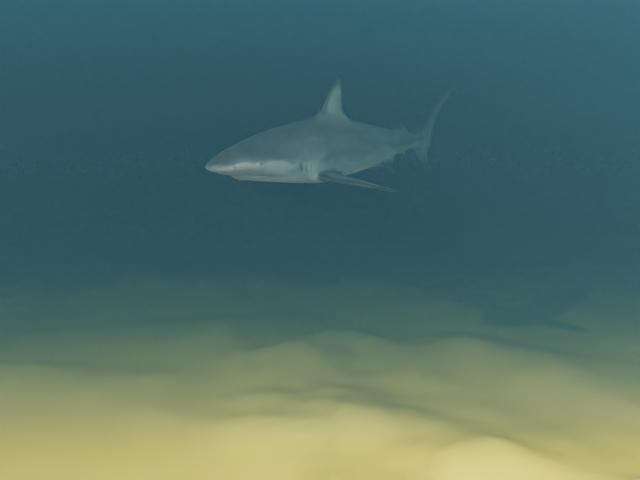Carribean Shark.001: (205, 78, 459, 192)
